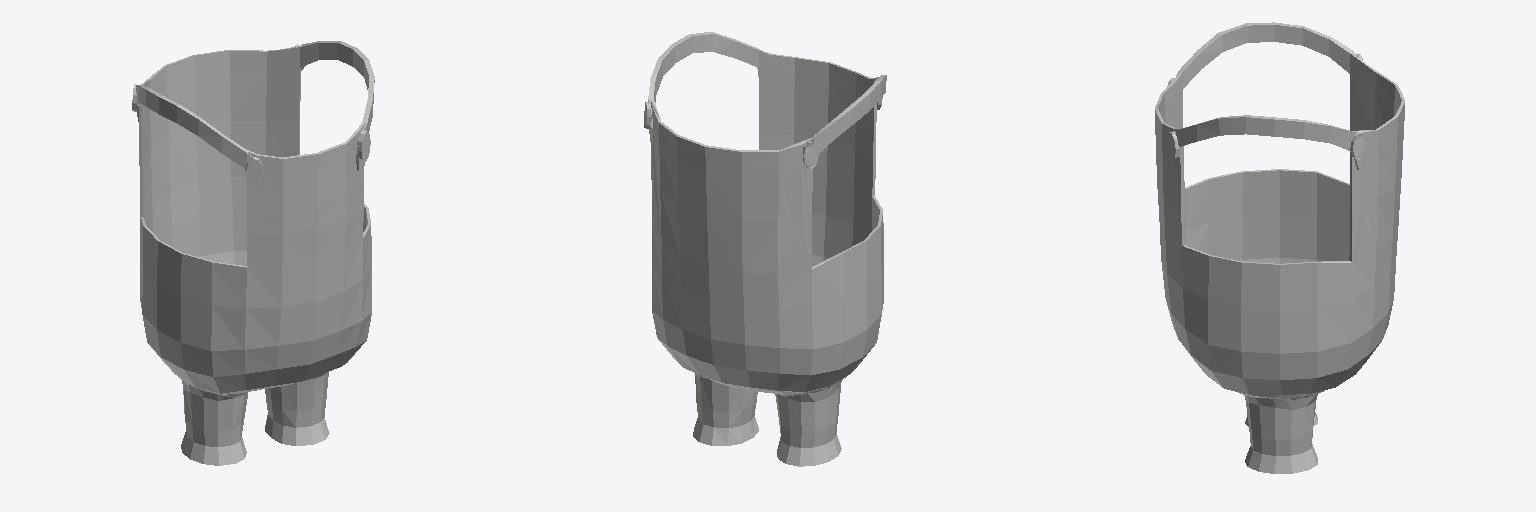
Rendered from minion2.obj.
The picture shows the model from 3 angles: view 1: azimuth 30°, elevation 25°; view 2: azimuth 150°, elevation 25°; view 3: azimuth 270°, elevation 25°; orthographic projection.
Parts seen in each view (by area): view 1: polySurface7; view 2: polySurface7; view 3: polySurface7.
Part boxes in pixels (left/top/right/bottom): polySurface7: left=132, top=41, right=374, bottom=465; polySurface7: left=644, top=32, right=886, bottom=466; polySurface7: left=1155, top=22, right=1404, bottom=473.
Size of the model in its own units: 0.2094 by 0.3736 by 0.2288.